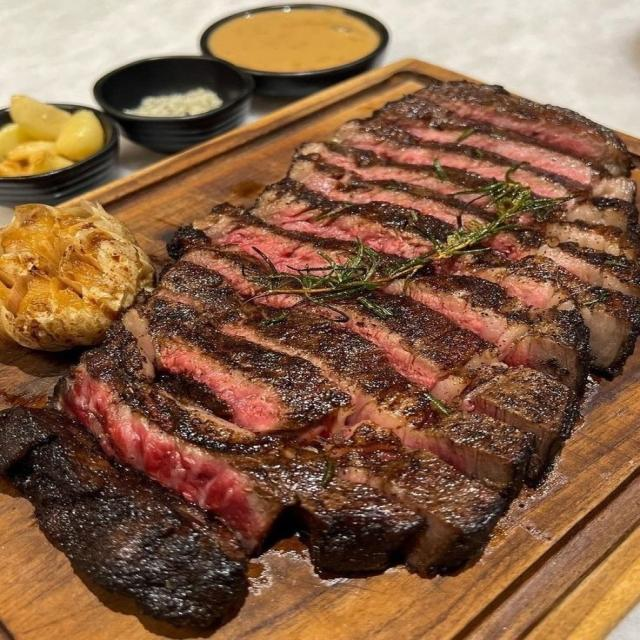beef steak: (57, 337, 398, 572), (0, 408, 248, 628), (57, 348, 292, 551), (218, 311, 497, 481), (330, 423, 505, 575), (150, 302, 346, 433), (450, 254, 639, 373), (404, 276, 587, 390), (417, 81, 630, 176), (334, 119, 585, 197), (336, 291, 497, 401), (253, 181, 453, 259), (290, 156, 494, 227), (299, 483, 423, 575), (195, 209, 355, 275), (300, 143, 491, 198), (467, 368, 575, 463), (398, 412, 530, 489), (462, 125, 599, 186), (157, 261, 261, 321), (538, 243, 639, 297), (529, 221, 636, 259), (186, 249, 258, 297), (103, 320, 155, 381), (375, 107, 467, 141), (310, 419, 398, 449), (565, 198, 637, 231), (123, 308, 154, 362), (492, 230, 533, 258), (254, 296, 297, 307)
